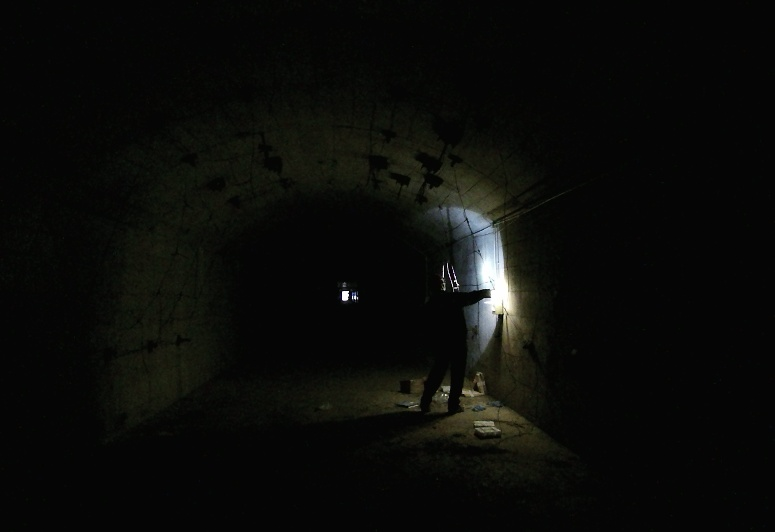person: (414, 275, 497, 418)
